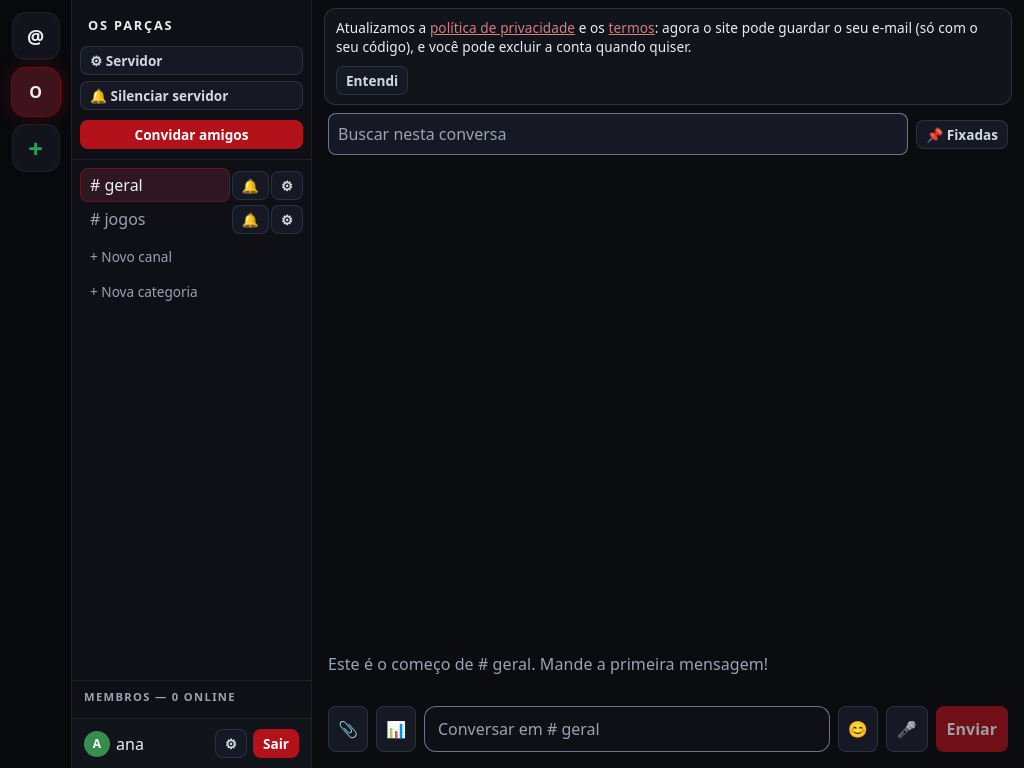
mensagens › mostra o erro quando o envio falha e mantém o texto
This screenshot has width=1024, height=768.
Type "oi" into the field named "Mensagem em # geral".
click(627, 729); type("oi")  # box x1=424 y1=706 x2=830 y2=752
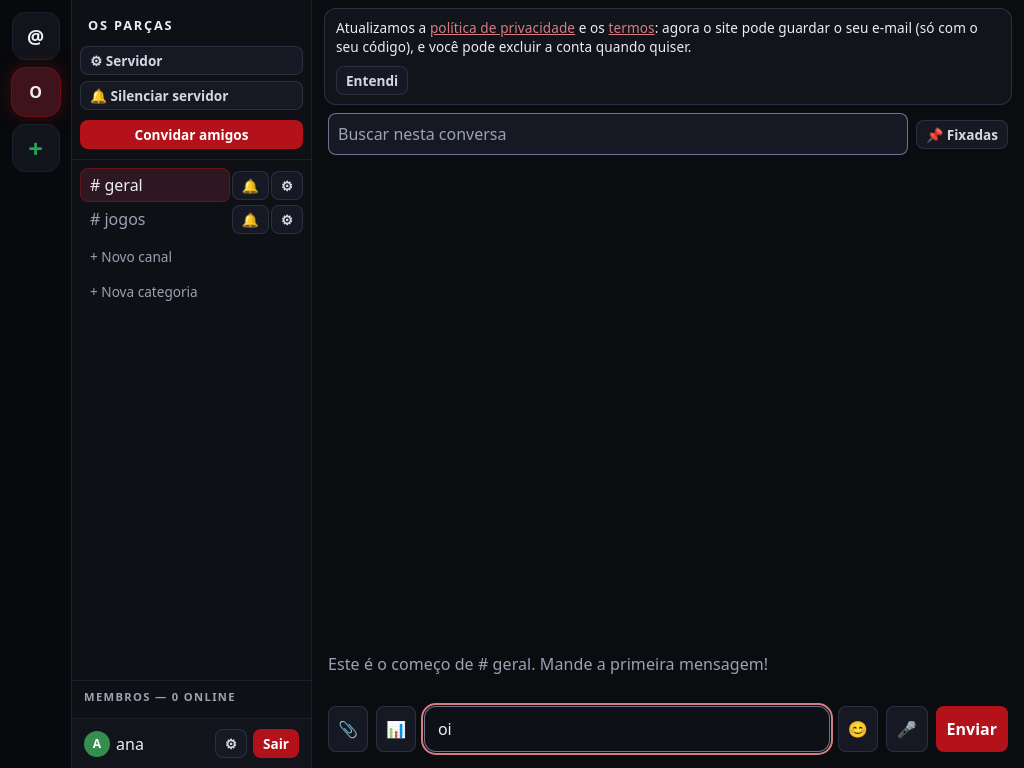
Click the button "Enviar".
click(972, 729)  # box x1=936 y1=706 x2=1008 y2=752
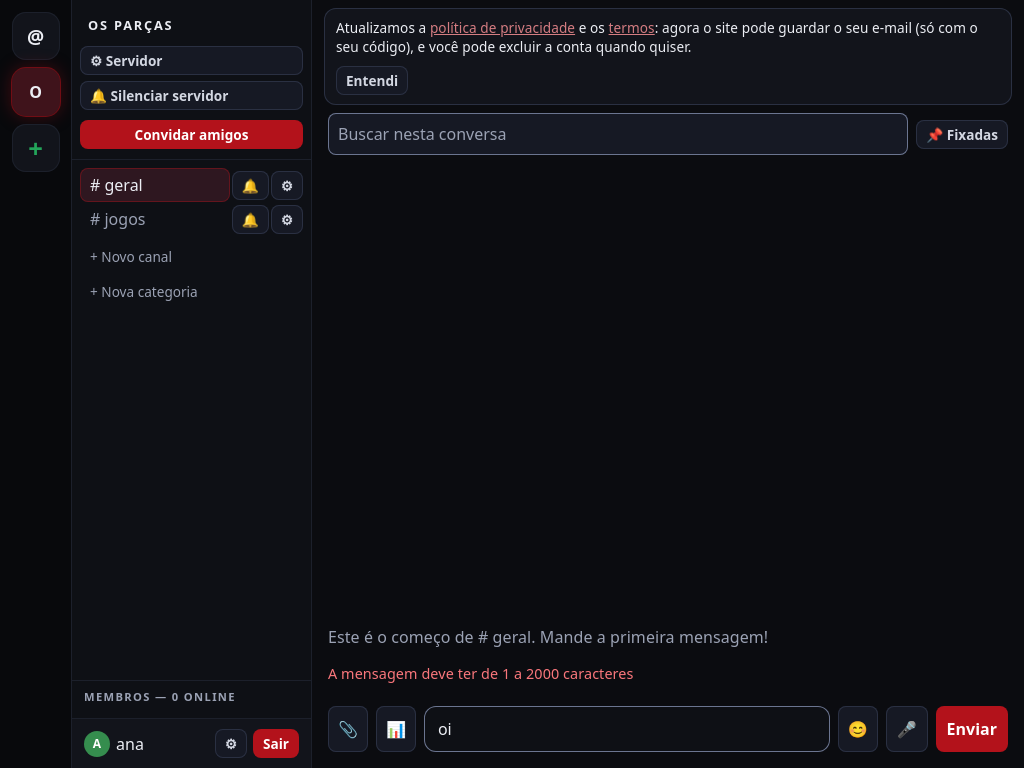
Expected: the message shows "1 a 2000", x1=328 y1=664 x2=634 y2=683
